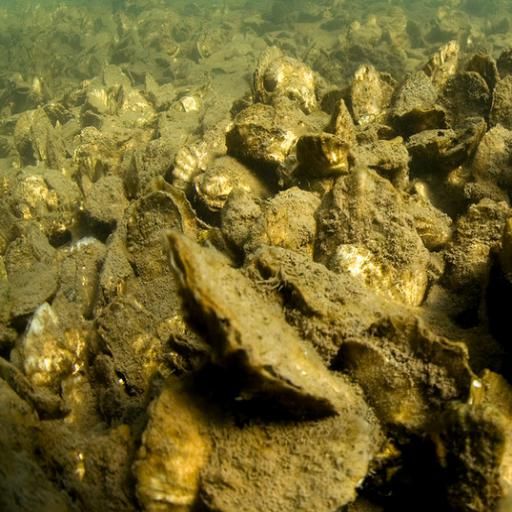Oyster-Closed: (165, 237, 342, 410), (204, 381, 380, 512), (315, 171, 434, 308), (358, 311, 479, 401), (139, 385, 216, 512), (257, 253, 381, 331), (425, 407, 512, 512), (336, 339, 413, 424), (18, 298, 90, 387), (245, 190, 323, 272), (127, 194, 182, 276), (388, 69, 441, 123), (172, 136, 216, 201), (477, 123, 512, 202), (301, 135, 351, 182), (428, 34, 464, 96), (349, 66, 384, 125), (271, 57, 314, 102), (251, 44, 282, 97)
